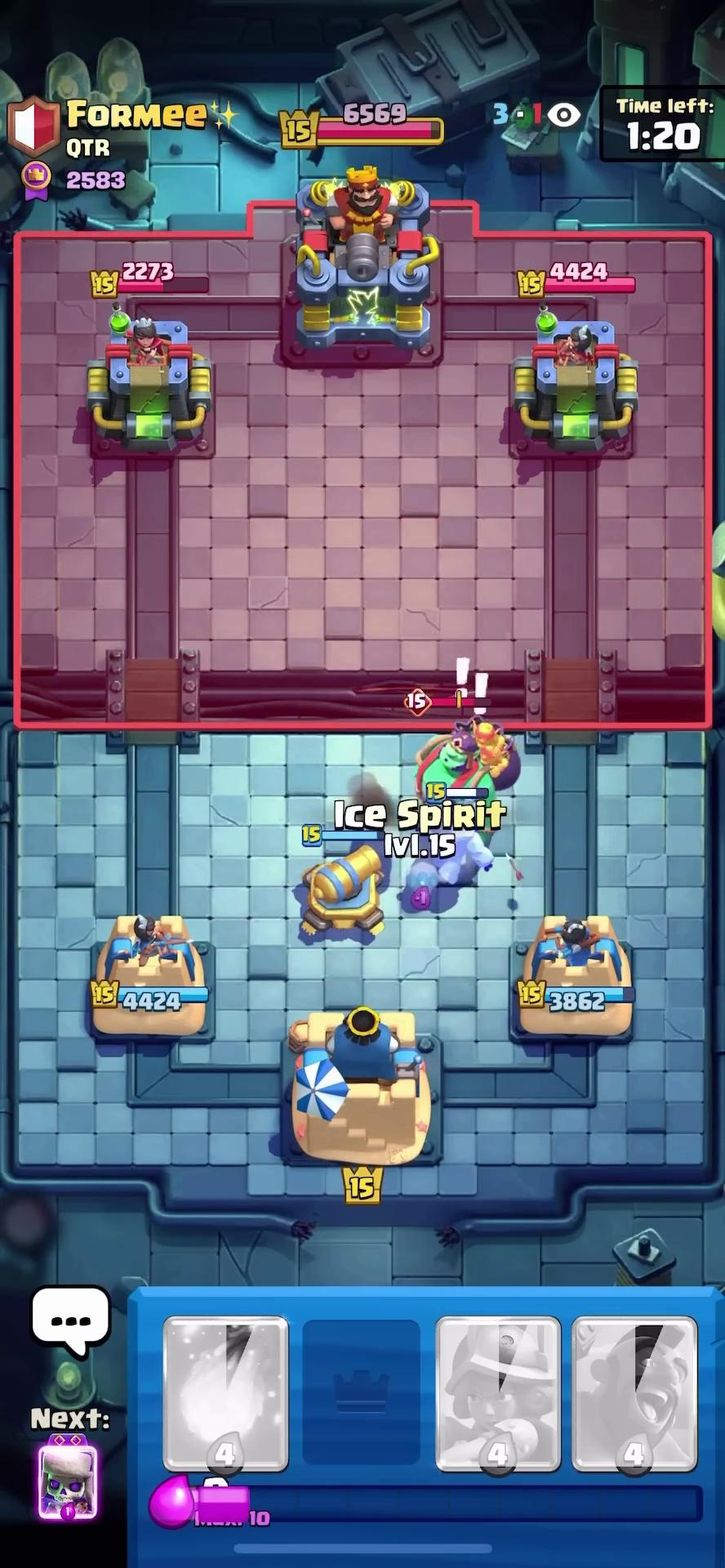cannon: (290, 829, 396, 937)
